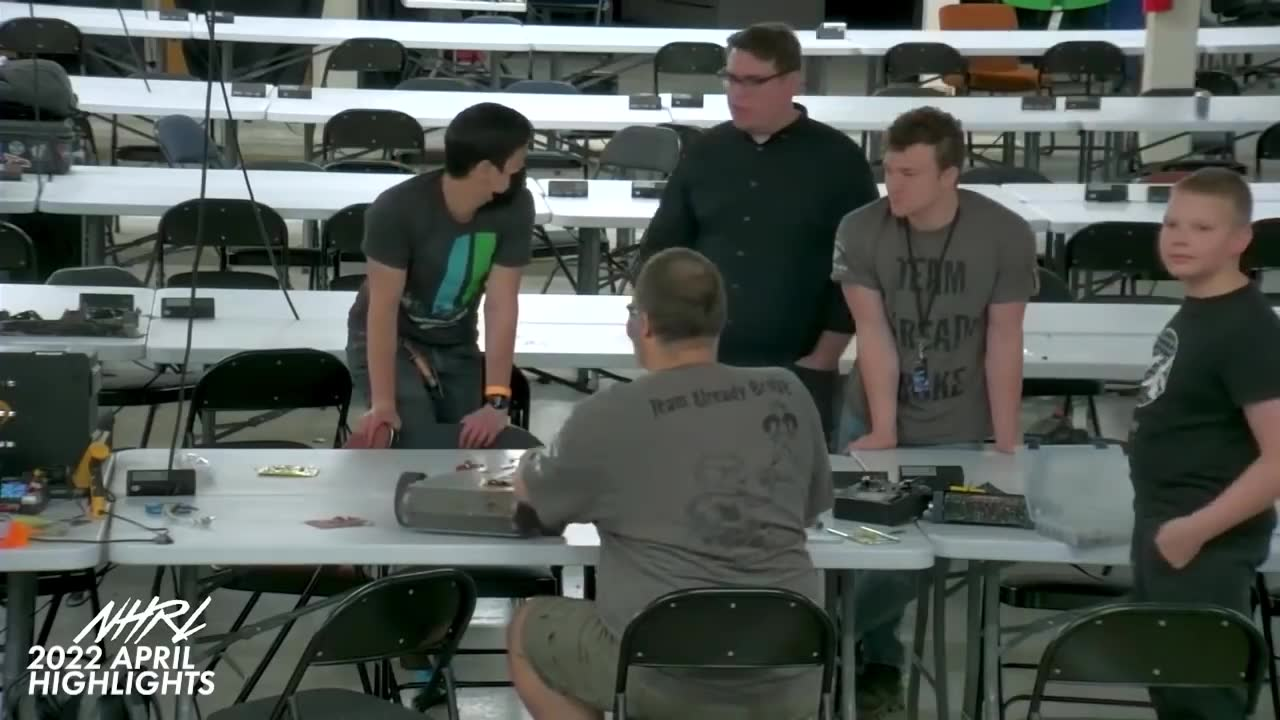combatbot: (393, 462, 553, 535), (918, 471, 1038, 528)
